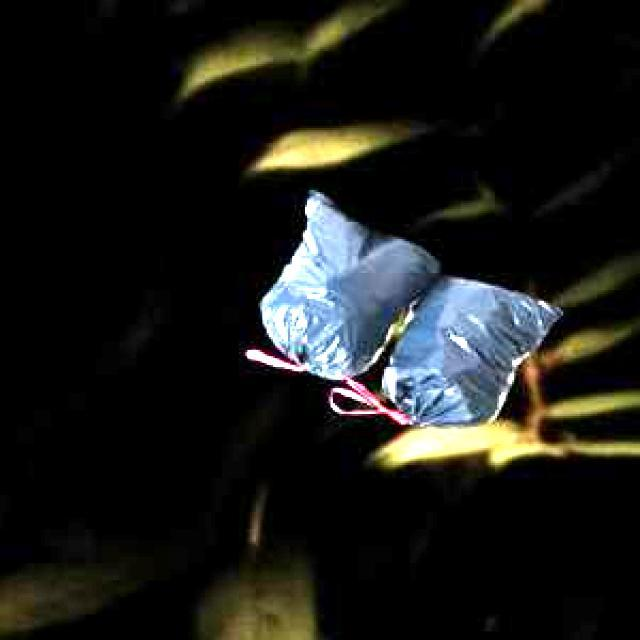Garbage_Bag: (245, 187, 560, 426)
